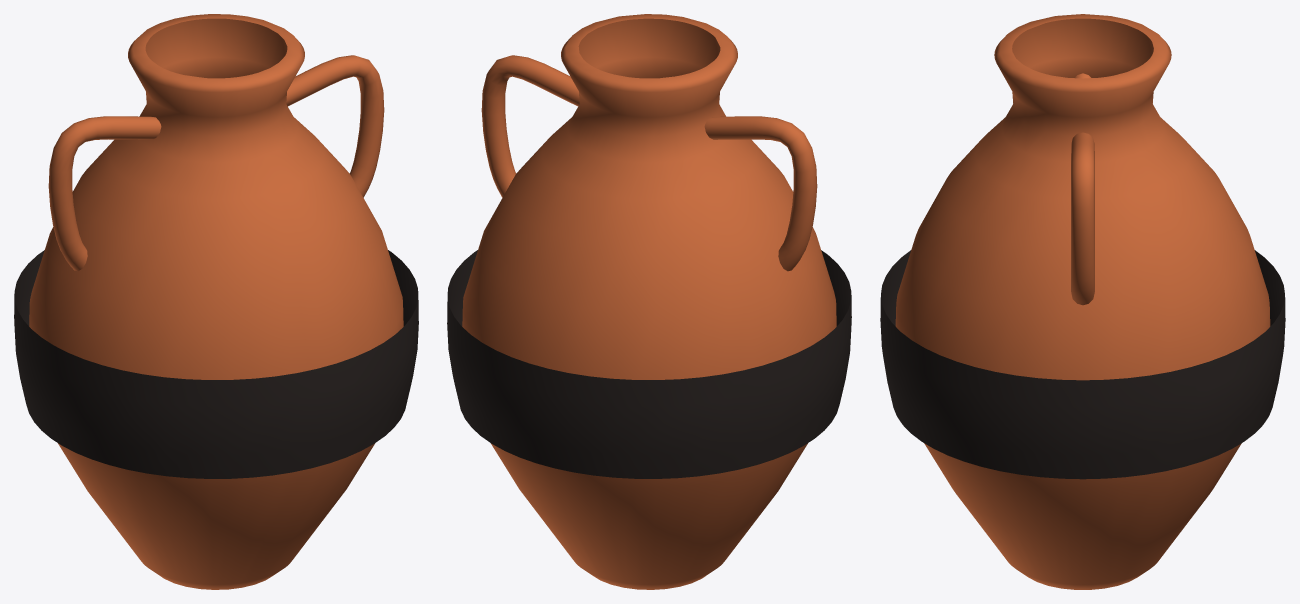
Rendered from deco_anfora.glb.
The picture shows the model from 3 angles, left to right: view 1: azimuth 30°, elevation 25°; view 2: azimuth 150°, elevation 25°; view 3: azimuth 270°, elevation 25°; orthographic projection.
Visible parts, largest first — view 1: ánfora.001, ánfora banda.001, ánfora asa -1.001, ánfora asa 1.001; view 2: ánfora.001, ánfora banda.001, ánfora asa -1.001, ánfora asa 1.001; view 3: ánfora.001, ánfora banda.001, ánfora asa 1.001.
Part boxes in pixels (left/top/right/bottom): ánfora.001: left=29, top=14, right=403, bottom=589; ánfora banda.001: left=14, top=250, right=418, bottom=478; ánfora asa -1.001: left=48, top=116, right=161, bottom=271; ánfora asa 1.001: left=286, top=55, right=384, bottom=197; ánfora.001: left=462, top=14, right=836, bottom=589; ánfora banda.001: left=447, top=250, right=851, bottom=478; ánfora asa -1.001: left=704, top=116, right=817, bottom=271; ánfora asa 1.001: left=481, top=55, right=579, bottom=197; ánfora.001: left=895, top=14, right=1270, bottom=589; ánfora banda.001: left=880, top=250, right=1285, bottom=479; ánfora asa 1.001: left=1071, top=132, right=1094, bottom=305.
Bounding box in the file's own units: 0.2266 × 0.32 × 0.2266.
